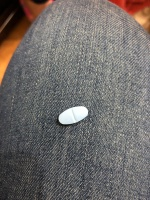Majezik: (56, 104, 90, 126)
